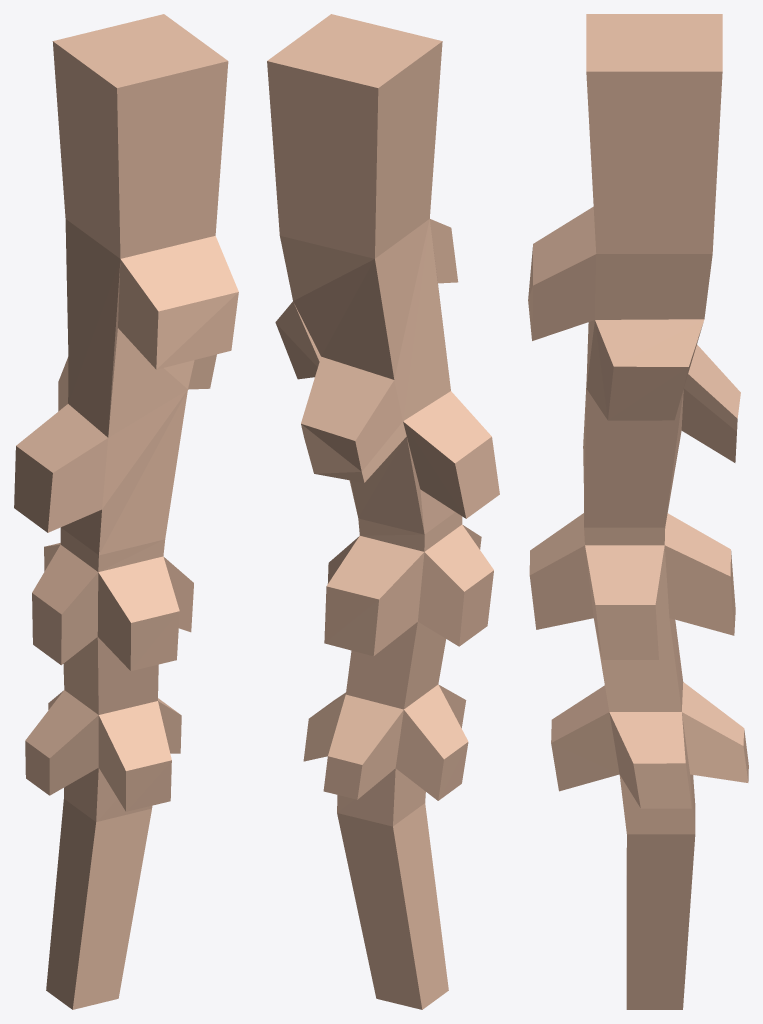
3 renders of one model, left to right at view 1: azimuth 30°, elevation 25°; view 2: azimuth 150°, elevation 25°; view 3: azimuth 270°, elevation 25°, orthographic. The views are drawn at different scales.
Visible parts, largest first — view 1: roots_1; view 2: roots_1; view 3: roots_1.
Part boxes in pixels (x1=…): roots_1: x1=14, y1=14, x2=238, y2=1009; roots_1: x1=267, y1=14, x2=499, y2=1009; roots_1: x1=528, y1=14, x2=748, y2=1009.
Size of the model in its own units: 0.4369 by 2.13 by 0.4326.
